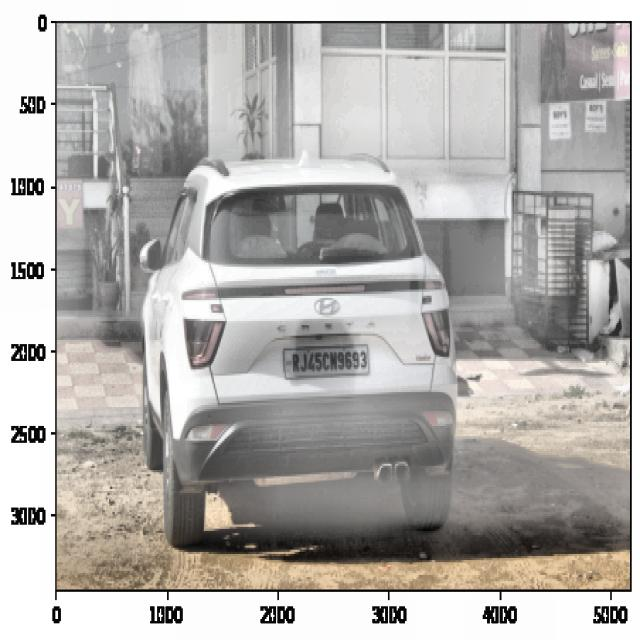license_plate: (289, 343, 370, 379)
